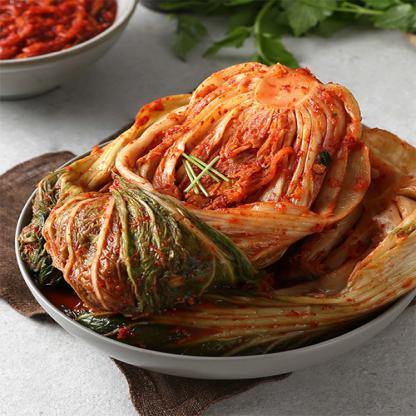kimchi: (31, 63, 378, 309), (80, 128, 416, 358)
